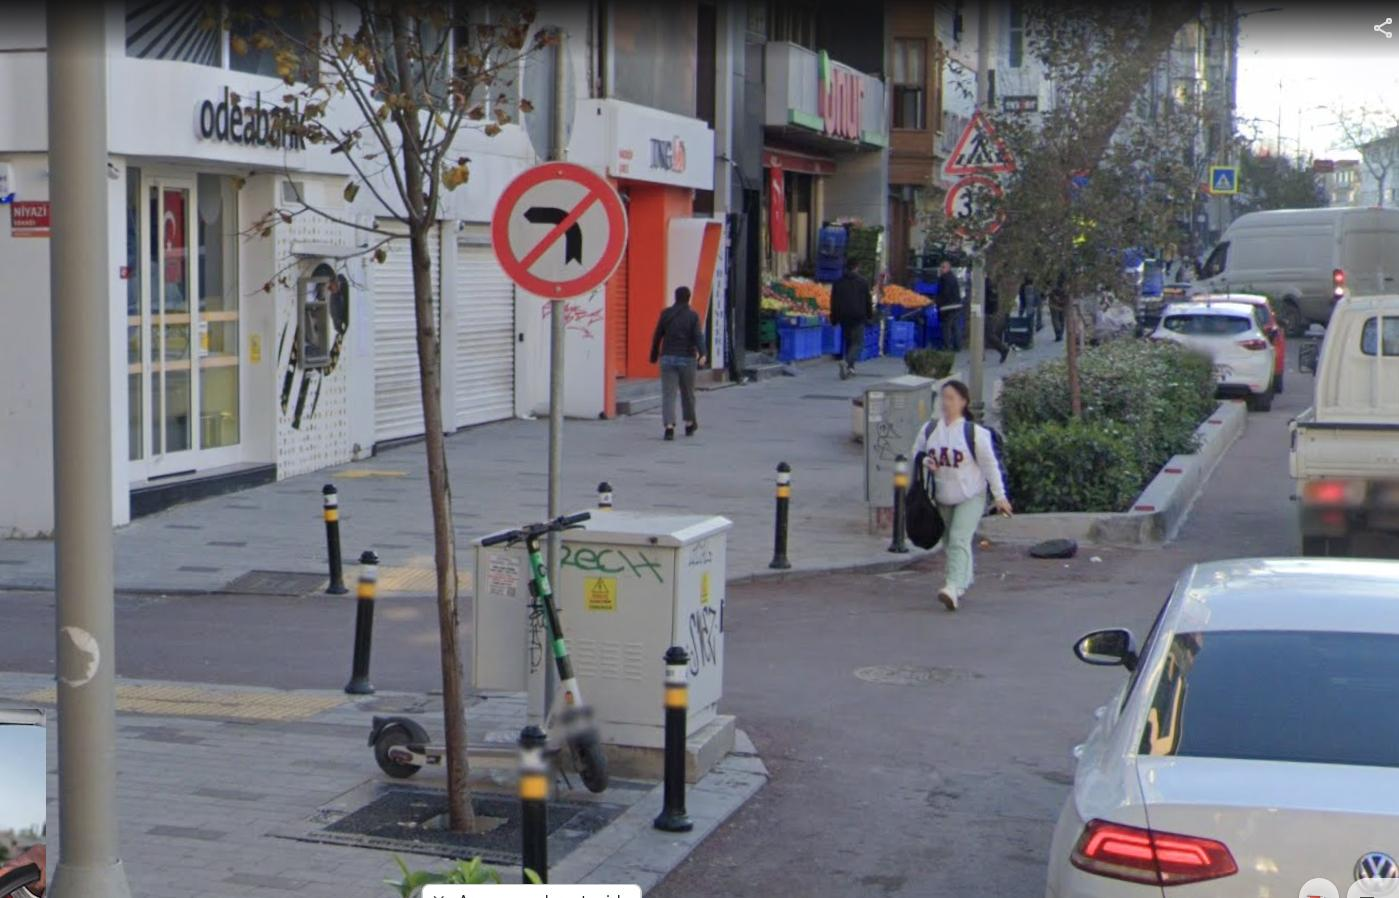leftturnsareforbidden: (496, 172, 624, 284)
